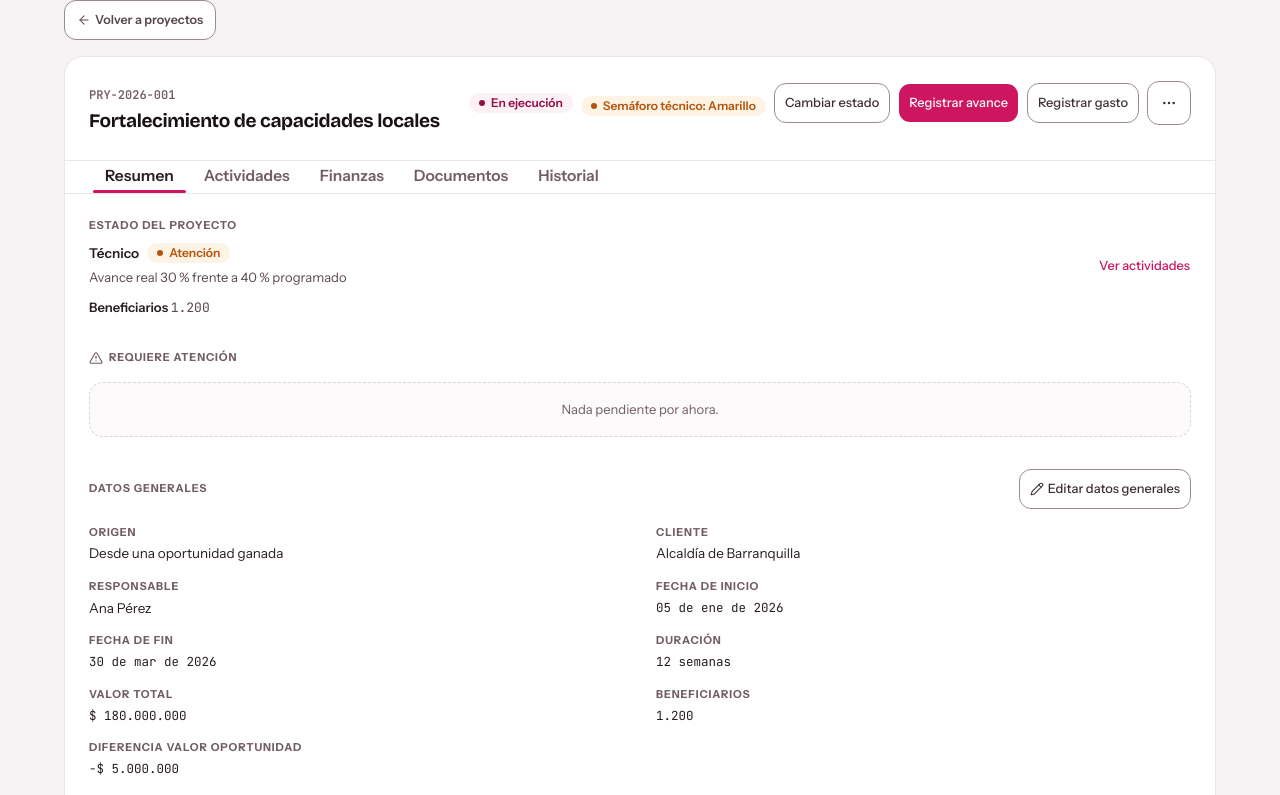
Test: ProjectFicha (page) › mounts the week Gantt as a view of Actividades, only on request
This screenshot has width=1280, height=795.
Click the tab "Actividades".
click(247, 176)  # box [191,164,303,189]
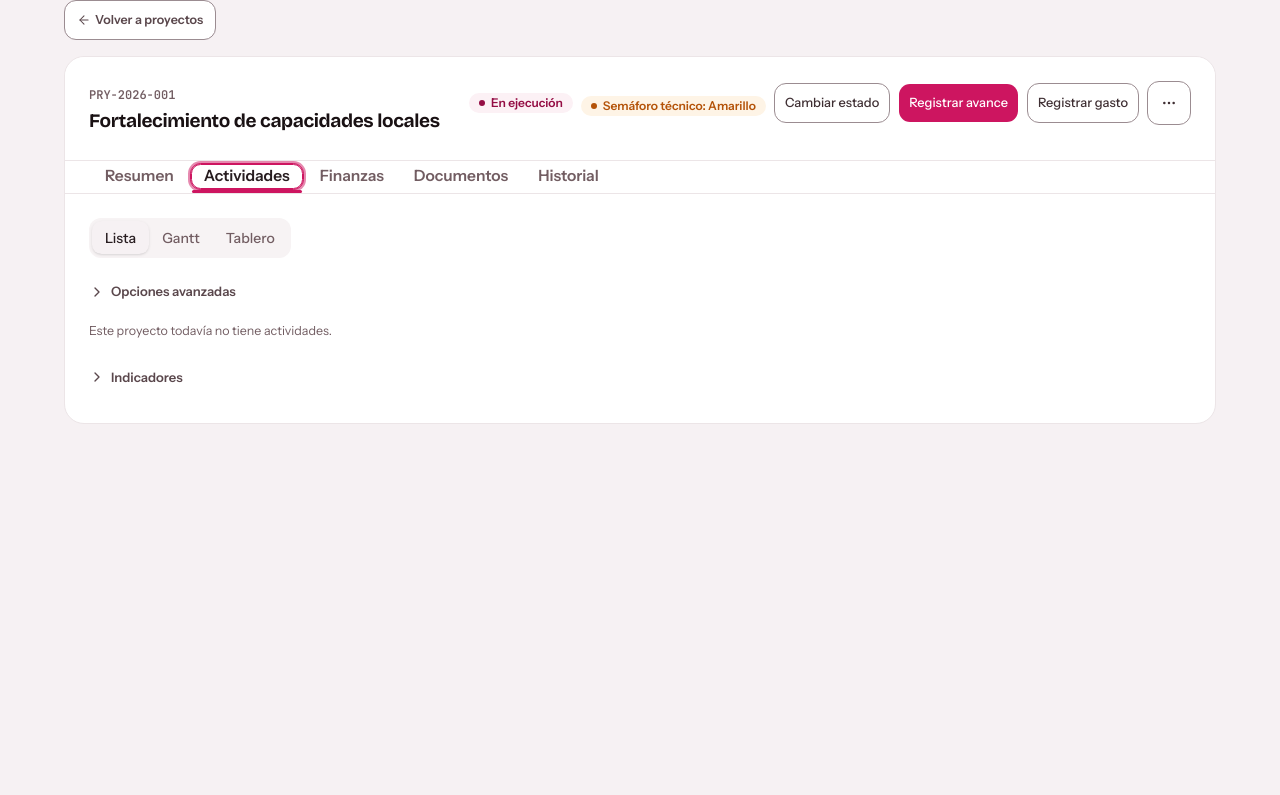
Click the tab "Gantt".
click(181, 238)  # box [149,221,213,254]
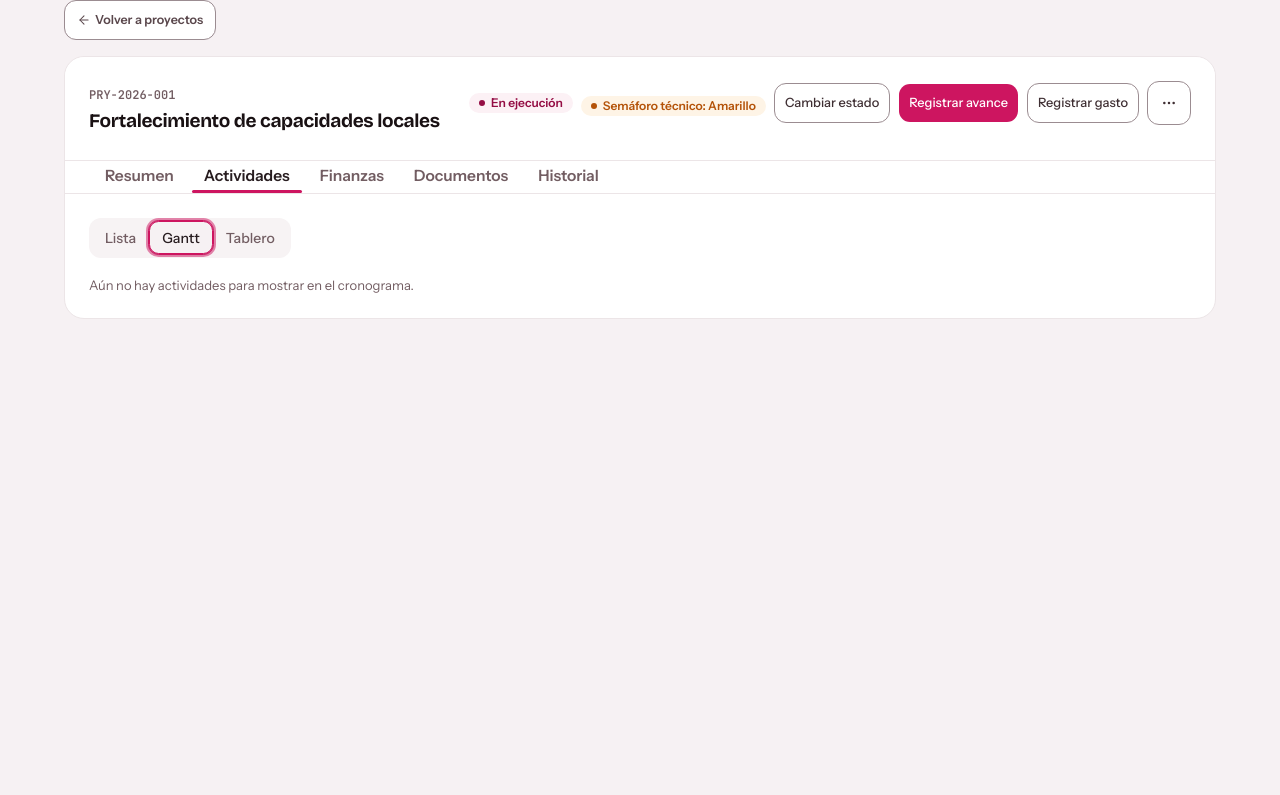
Expected: the element with test id "gantt" is shown, [89,276,414,292]
